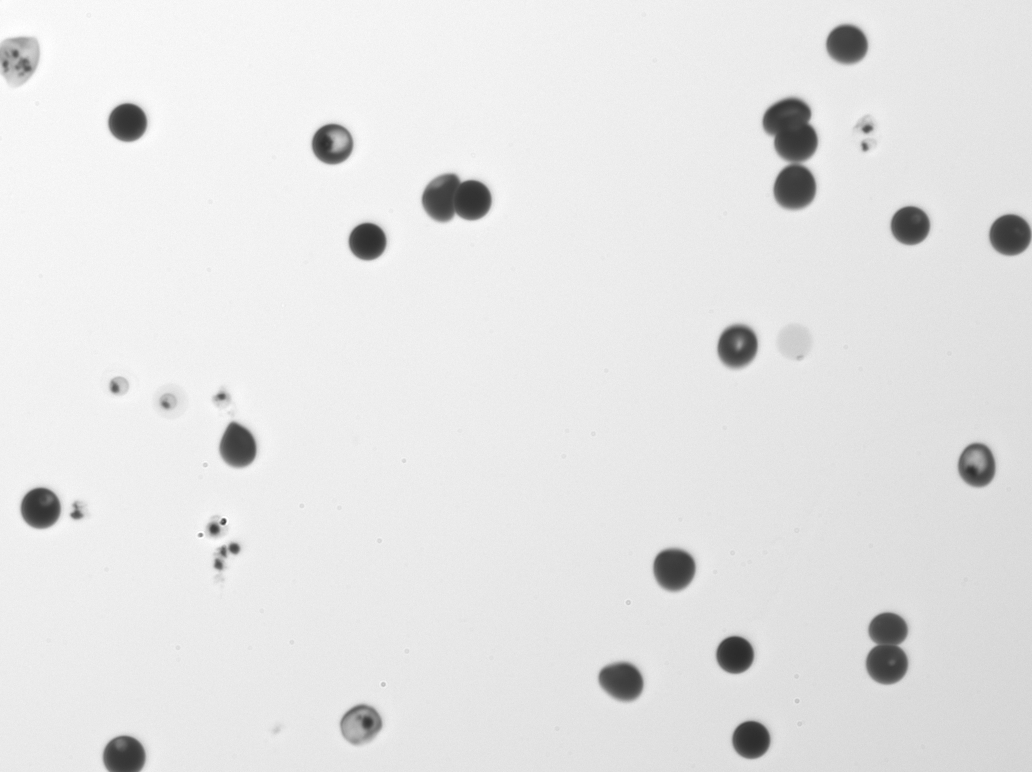gametocyte: (0, 37, 41, 86), (340, 702, 382, 743)
healthy: (773, 164, 817, 211), (421, 173, 461, 222), (653, 546, 696, 591), (598, 660, 644, 701), (717, 324, 758, 369), (762, 99, 811, 136), (989, 214, 1031, 257), (219, 421, 257, 467), (826, 25, 868, 66), (774, 125, 818, 164), (890, 206, 931, 246), (453, 180, 492, 222), (108, 103, 147, 143), (348, 222, 387, 261), (732, 718, 770, 758), (716, 634, 754, 673), (868, 610, 909, 644), (107, 374, 128, 398)
misc: (205, 512, 237, 591), (776, 321, 813, 360), (852, 110, 882, 155), (155, 384, 188, 420), (72, 498, 88, 525)
ring: (865, 643, 909, 684), (20, 486, 61, 528), (102, 735, 146, 772)
trophozoite: (958, 443, 996, 488), (312, 124, 353, 165)
